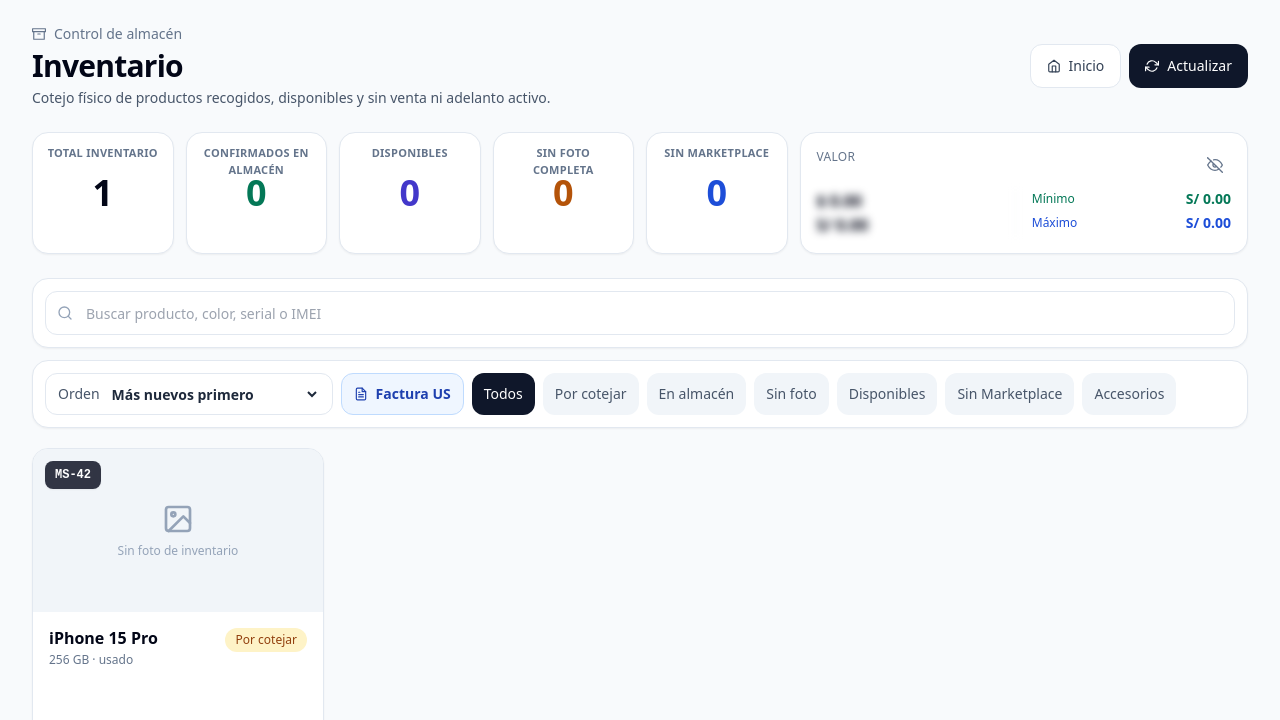
Test: al buscar una serie o IMEI de un producto vendido lo muestra como vendido
This screenshot has width=1280, height=720.
Step 1. Type "dmpx k123" into the field with placeholder "Buscar producto, color, serial o IMEI" → (640, 313), box [45,291,1235,335]
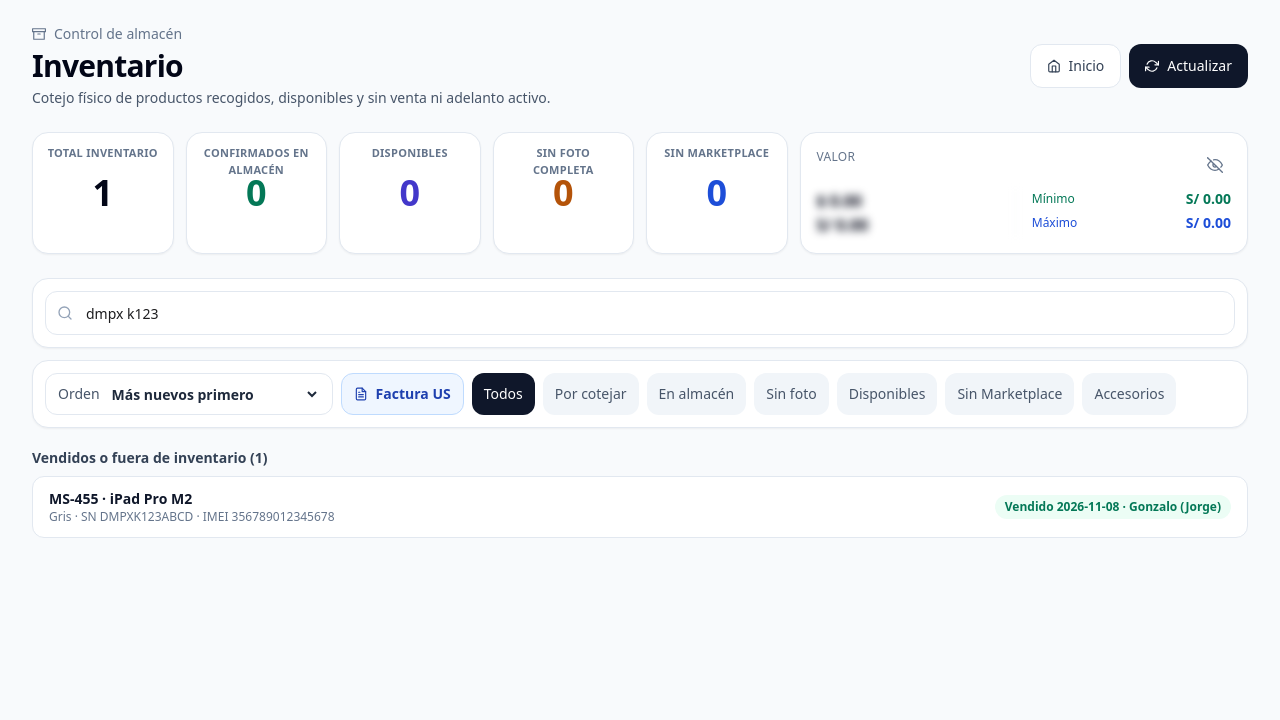
Check: the text "MS-455 · iPad Pro M2" is shown, box [49,489,192,508]
Check: the text "Vendido 2026-11-08 · Gonzalo (Jorge)" is shown, box [995,495,1231,519]
